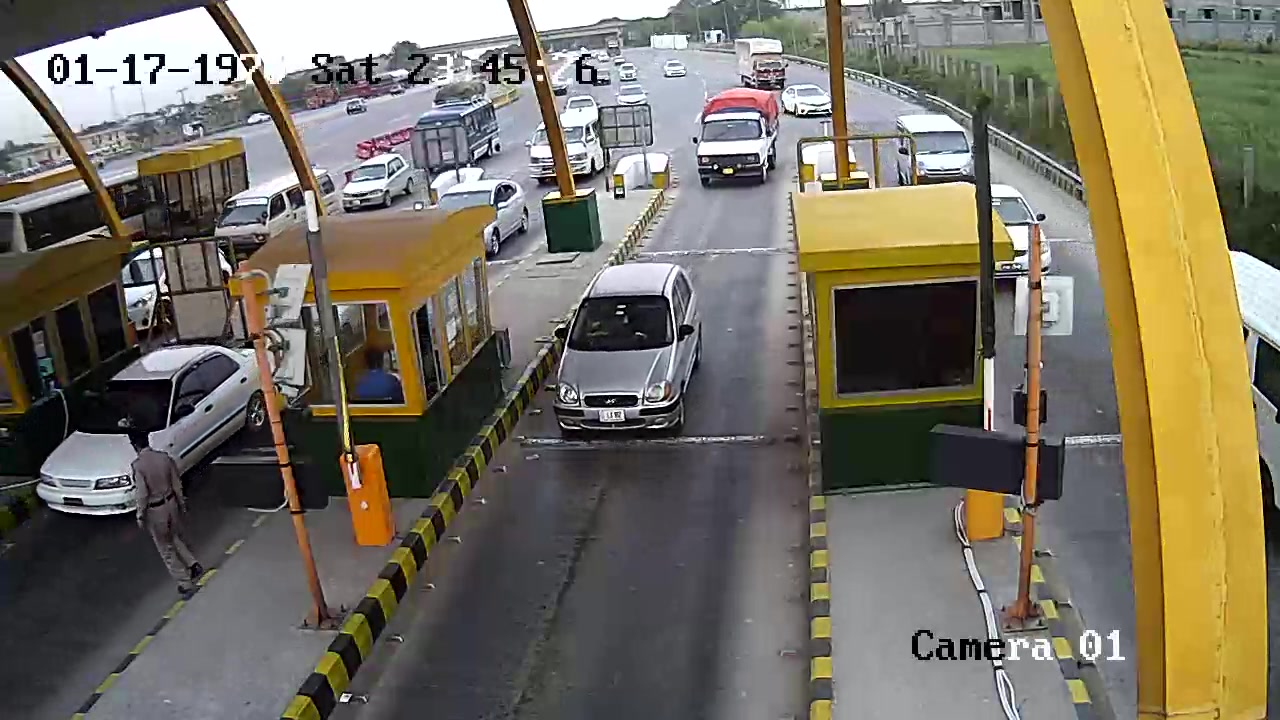F1: (551, 254, 712, 453)
